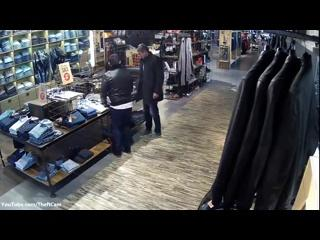Normal: (198, 44, 320, 208), (100, 53, 135, 158), (135, 43, 164, 137)
